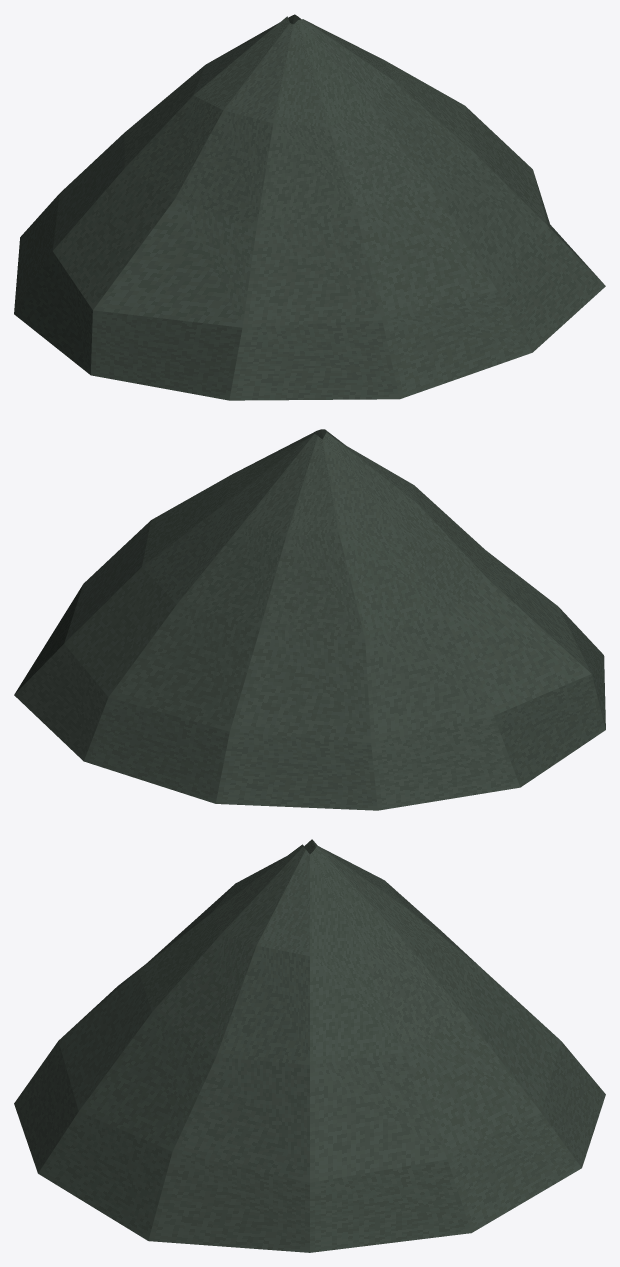
The model's file is mountain.glb.
3 renders of one model, top to bottom at view 1: azimuth 30°, elevation 25°; view 2: azimuth 150°, elevation 25°; view 3: azimuth 270°, elevation 25°, orthographic. The views are drawn at different scales.
Parts seen in each view (by area): view 1: mountain; view 2: mountain; view 3: mountain.
Boxes of the visible parts, <box> form: mountain: <box>14,14,605,400</box>; mountain: <box>14,429,605,810</box>; mountain: <box>14,839,605,1252</box>.
Bounding box in the file's own units: 2 × 1.04 × 1.98.
1 material, 1 textured.
